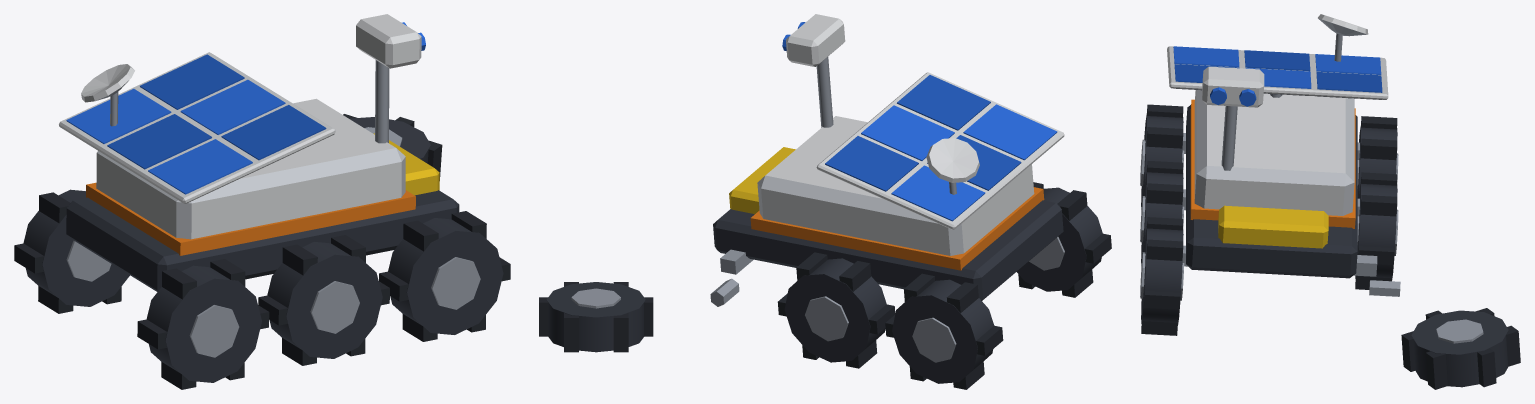
File: rover.glb
3 views of the same model, side by side, from view 1: azimuth 30°, elevation 25°; view 2: azimuth 150°, elevation 25°; view 3: azimuth 270°, elevation 25° (orthographic). The views are drawn at different scales.
Parts seen in each view (by area): view 1: Body; view 2: Body; view 3: Body.
Boxes of the visible parts, x1,y1,x2,y2 form: Body: (14,14,510,389); Body: (539,14,1111,389); Body: (1140,14,1520,389).
Bounding box in the file's own units: 3.73 × 2.28 × 3.12.
